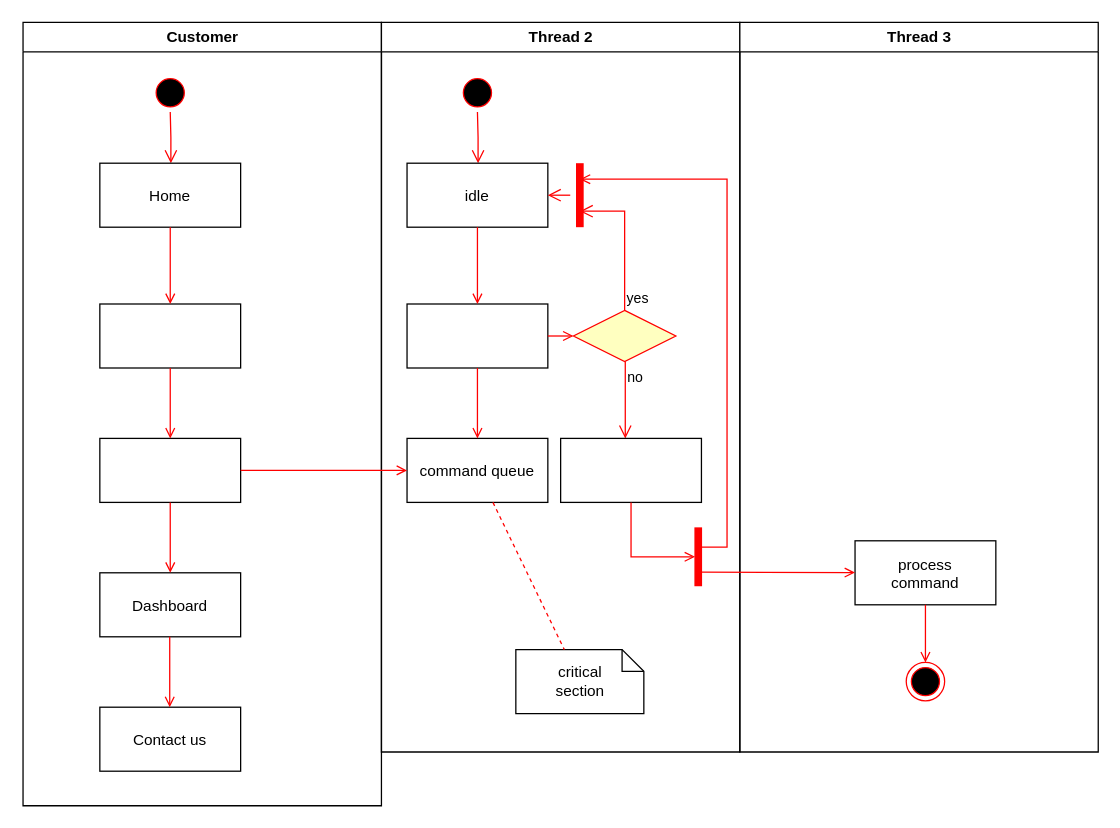
Image size: 1120x828. Some labels were removed from this diagram. Here are the shapes that lost their labels. From the top down, the centre of each, then its label:
At point (170, 335): "About".
At point (477, 335): "check for new commands".
At point (624, 335): "queue empty".
At point (170, 469): "Services".
At point (630, 469): "dispatch command worker thread".
